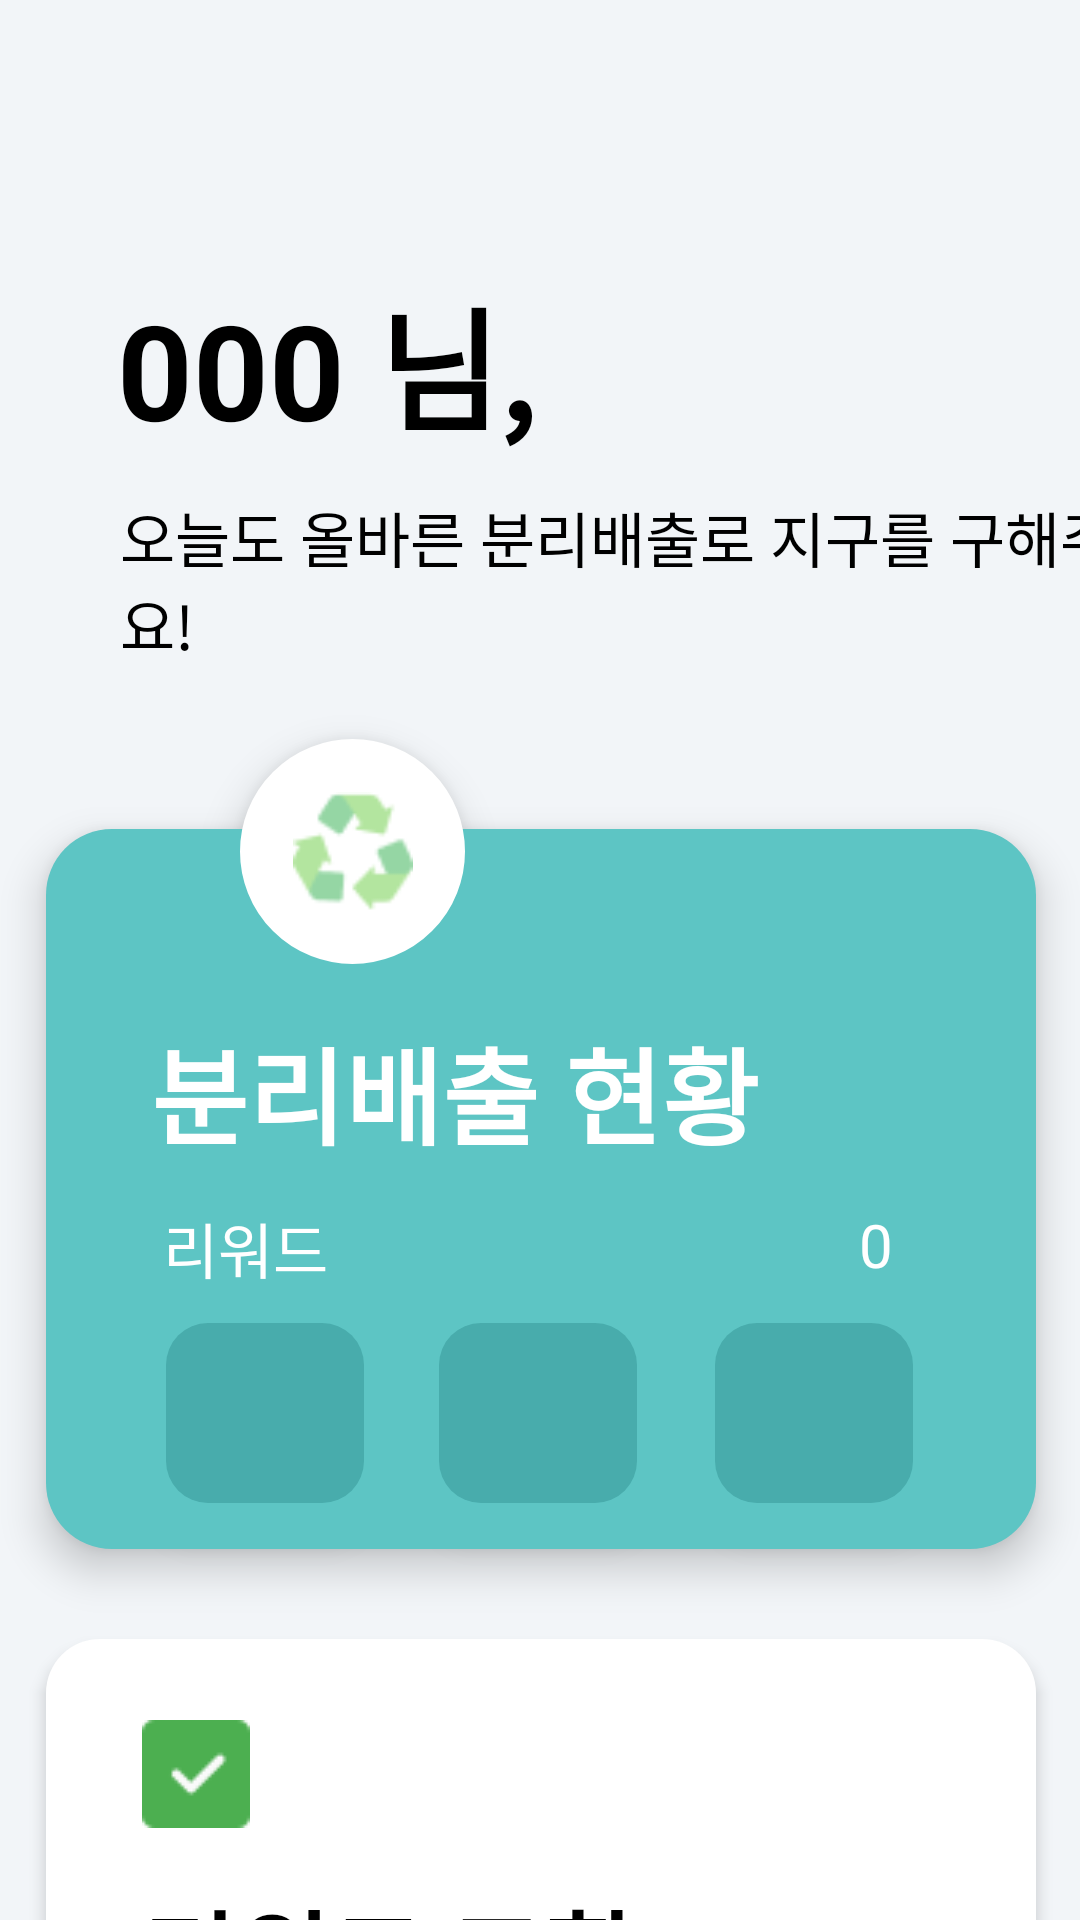

Locate icon controls on the screen. Image size 1080px×1920px, boxes as (x1, y1, x2, y2).
check: (142, 1720, 250, 1828)
recycle: (293, 794, 413, 909)
